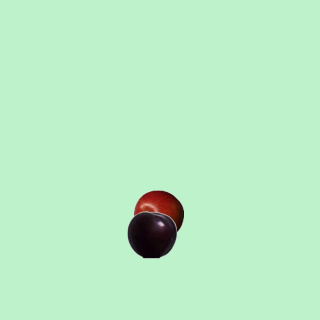Apple Braeburn: (133, 189, 183, 239)
Cherry Wax Black: (126, 209, 176, 259)
